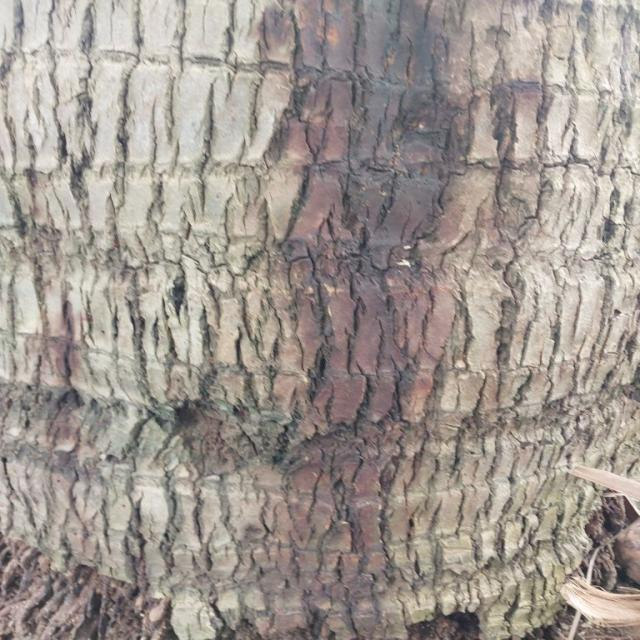stembleeding: (192, 0, 534, 595)
